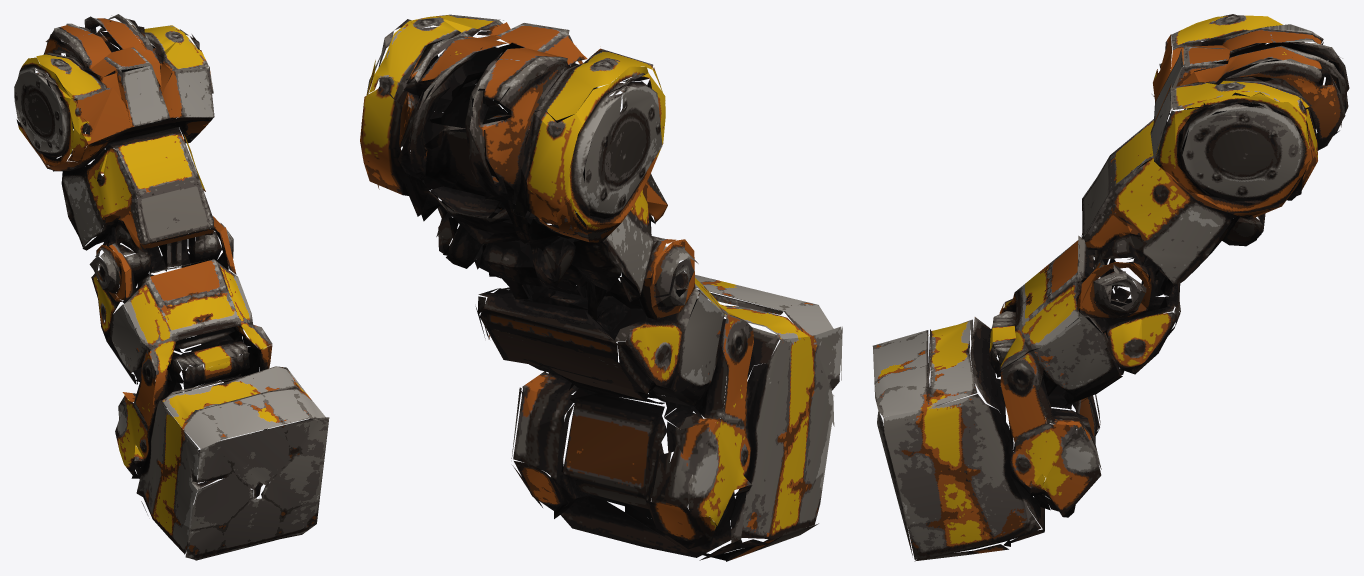
File: ar_hammer.glb
3 renders of one model, left to right at view 1: azimuth 30°, elevation 25°; view 2: azimuth 150°, elevation 25°; view 3: azimuth 270°, elevation 25°, orthographic. The views are drawn at different scales.
Visible parts, largest first — view 1: ar_hammer; view 2: ar_hammer; view 3: ar_hammer.
Boxes of the visible parts, <box> form: ar_hammer: <box>14,14,329,560</box>; ar_hammer: <box>360,14,842,561</box>; ar_hammer: <box>872,14,1349,561</box>.
Bounding box in the file's own units: 0.1728 × 0.44 × 0.3876.
Materials: 1 (1 with a texture image).
